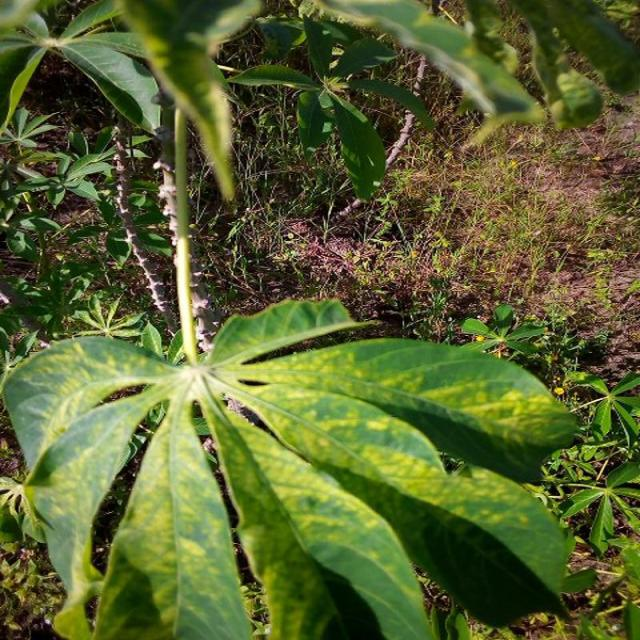cassava leaf: (2, 296, 580, 638)
